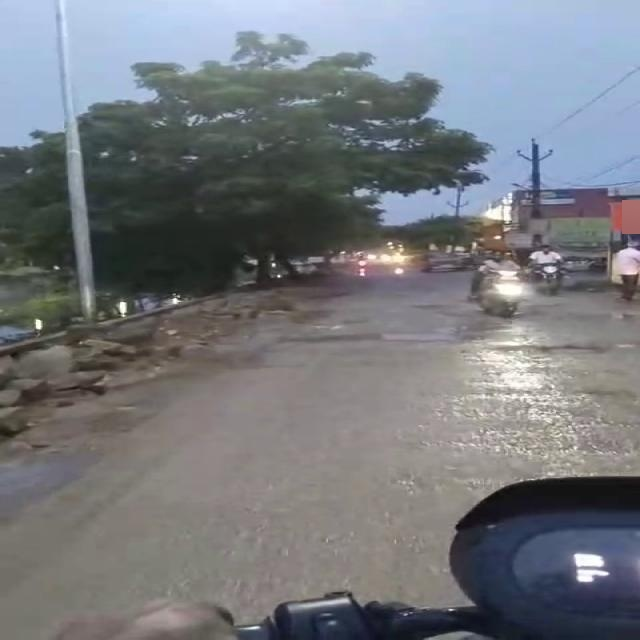pothole: (282, 332, 481, 344), (532, 343, 612, 358), (298, 320, 356, 331), (405, 302, 462, 312), (598, 311, 640, 322)
